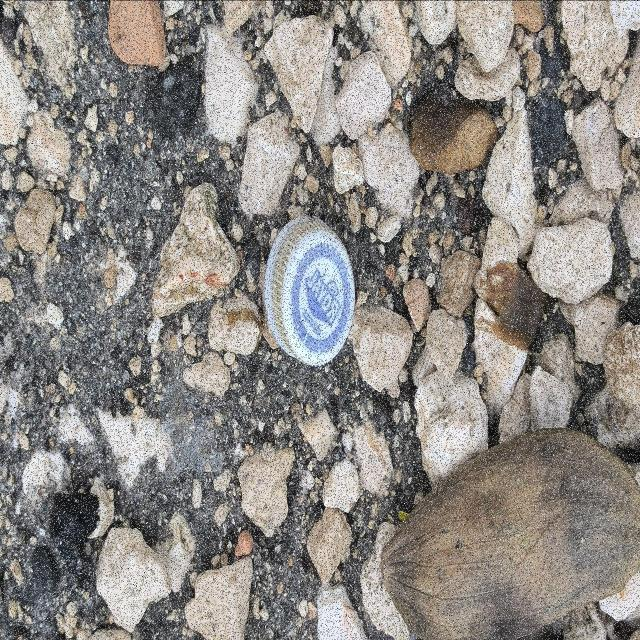plastic_waste: (265, 214, 358, 371)
